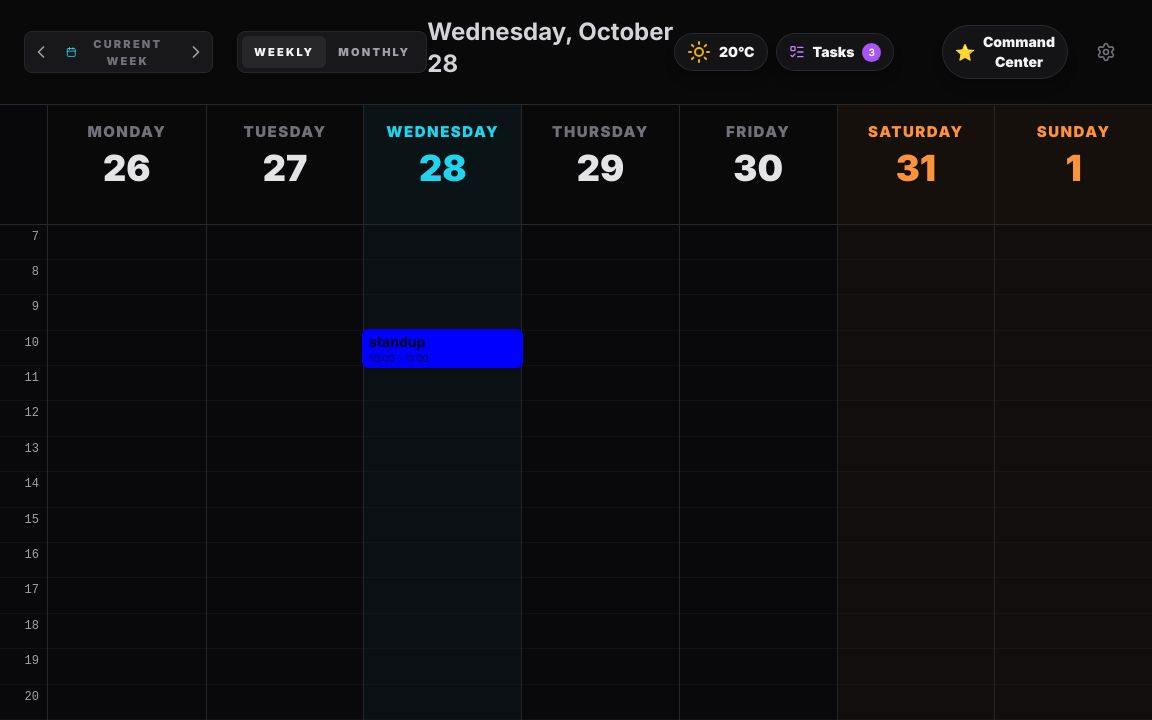
Test: Back from Mission Control after the sign-in changed › a sign-in while Mission Control is on screen: nothing of the account before it, the spinner while the new one loads
The image size is (1152, 720).
Click the button with test id "switch-to-mc-btn". click: (1005, 52)
box: [942,25,1068,79]
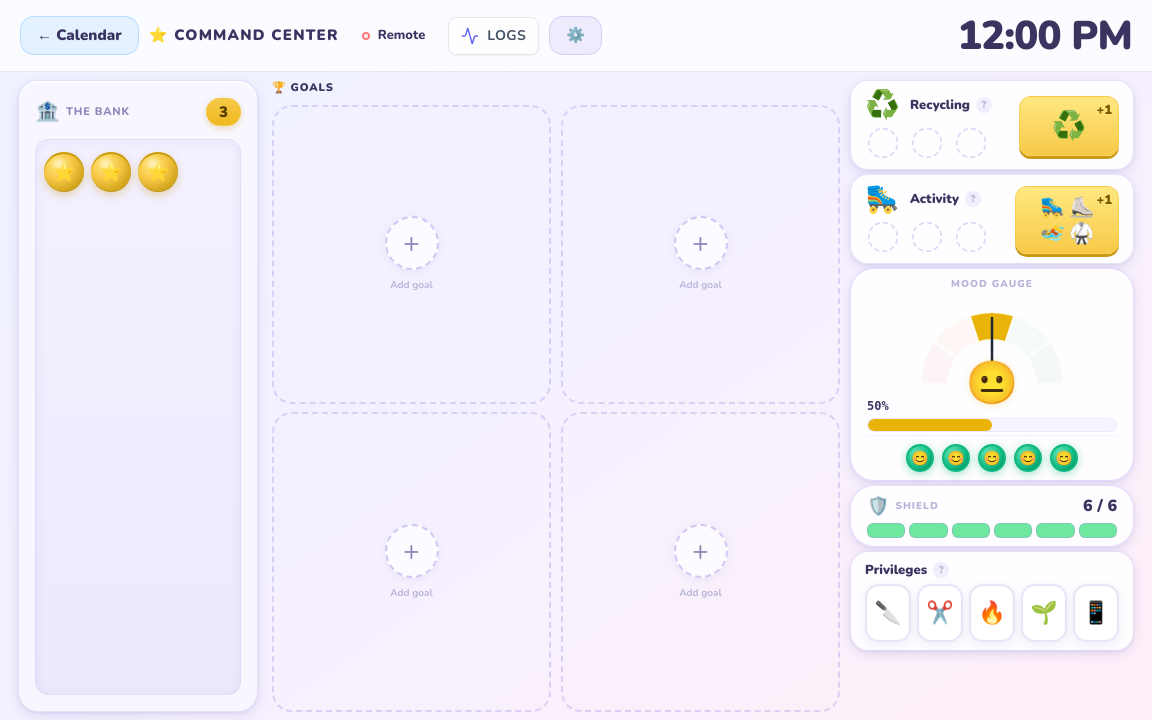
Click the button with test id "mc-back-to-calendar-btn". click: (79, 36)
box: [20,16,139,55]
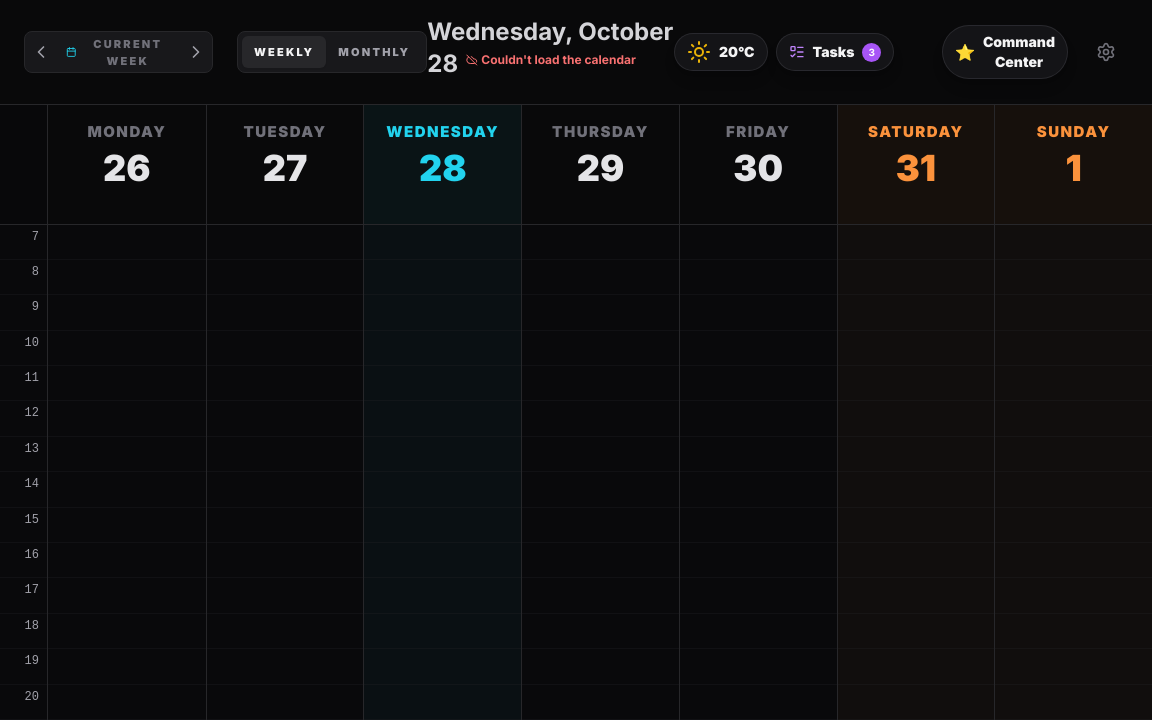
Expected: the element with test id "calendar-grid" is shown
Expected: the element with test id "calendar-read-notice" reads "Couldn't load the calendar", [481,52,636,67]
